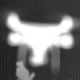plane: (3, 11, 79, 74)
